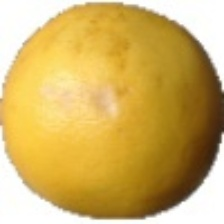grapes: (34, 35, 209, 191)
